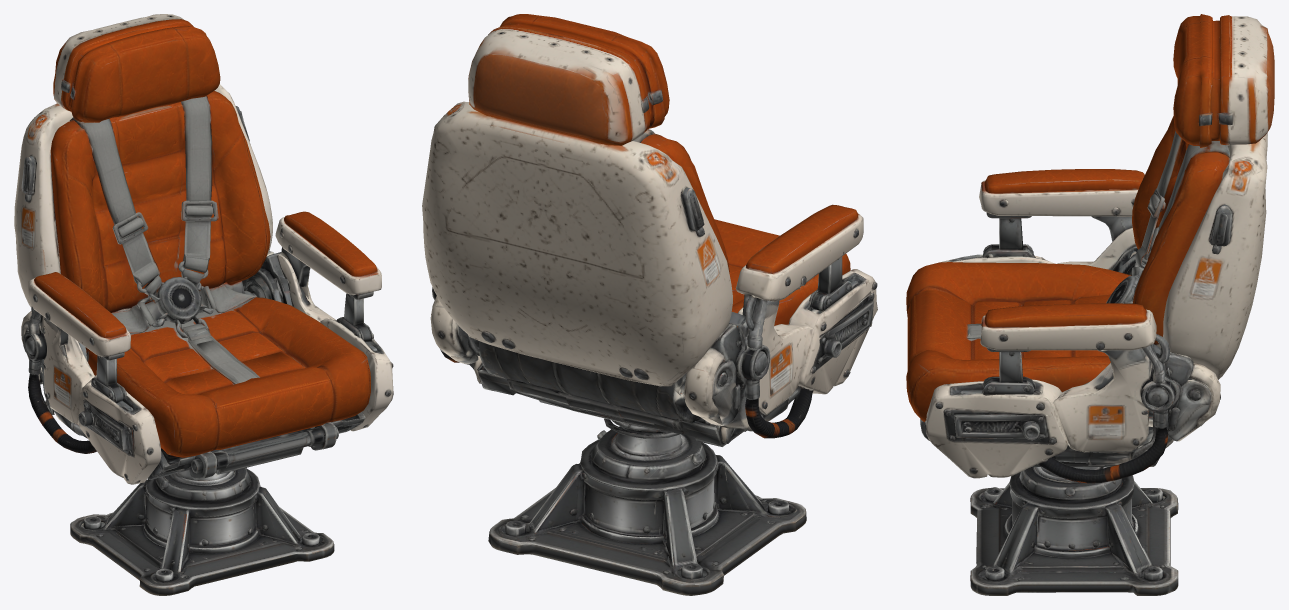
Rendered from PilotSeat_T25.glb.
3 renders of one model, left to right at view 1: azimuth 30°, elevation 25°; view 2: azimuth 150°, elevation 25°; view 3: azimuth 270°, elevation 25°, orthographic. The views are drawn at different scales.
Bounding box in the file's own units: 0.6138 × 0.9512 × 0.6235.
Materials: 1 (1 with a texture image).
